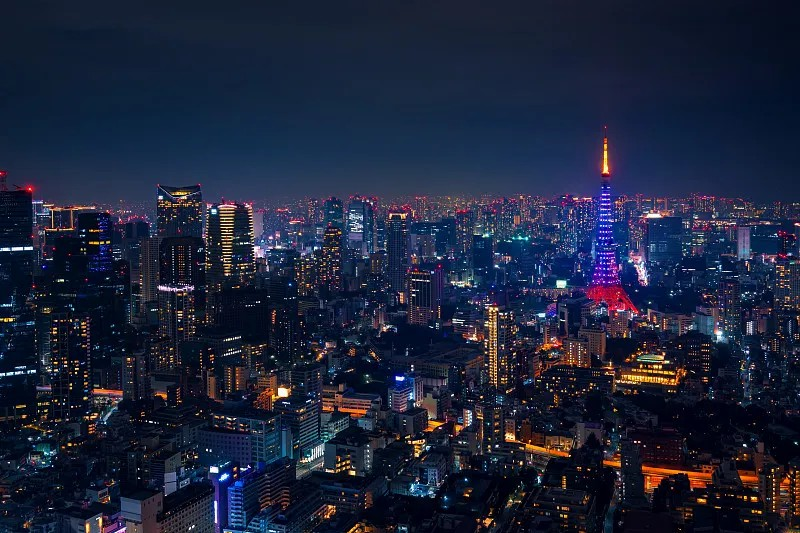Tokyo: (582, 121, 637, 322)
